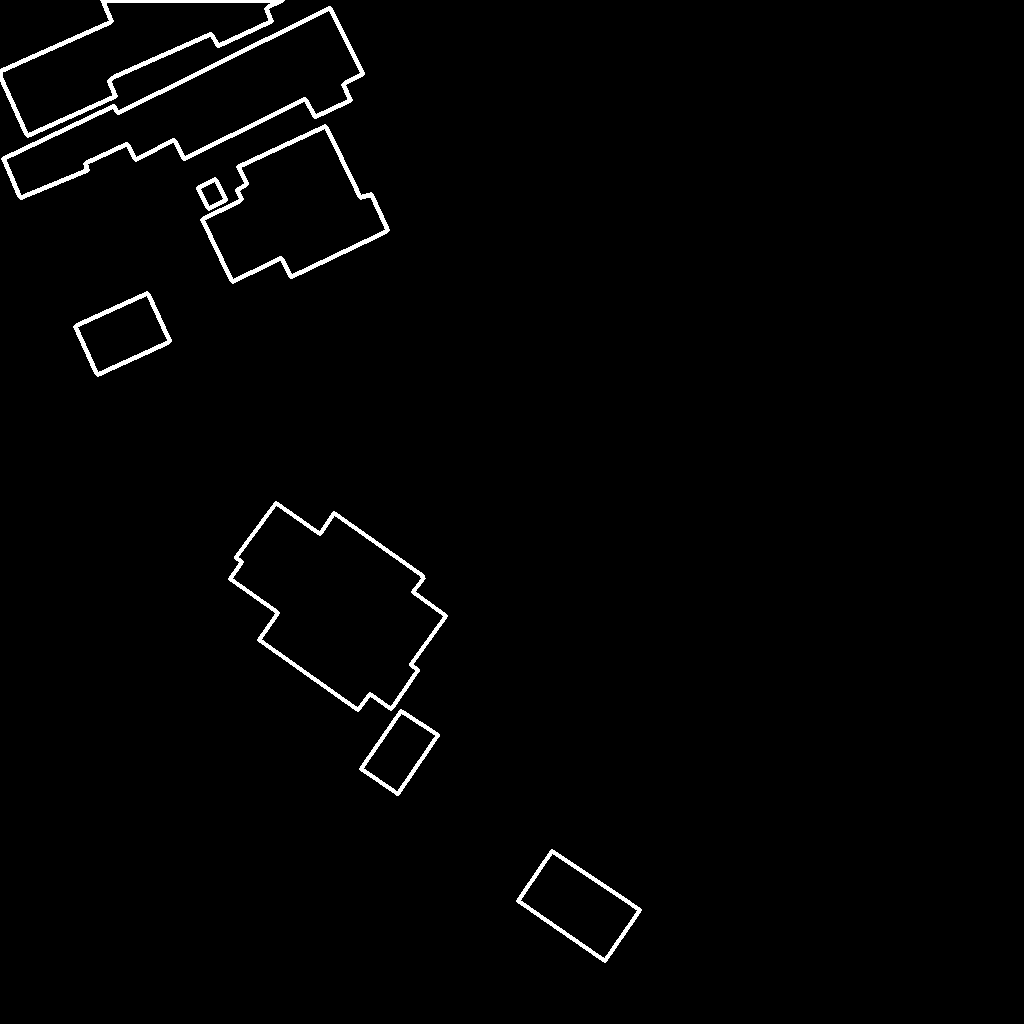building: (3, 8, 364, 199), (230, 503, 447, 711), (0, 0, 285, 137), (202, 126, 389, 283), (518, 851, 641, 962), (75, 293, 171, 376), (361, 711, 439, 795), (198, 179, 227, 210)
